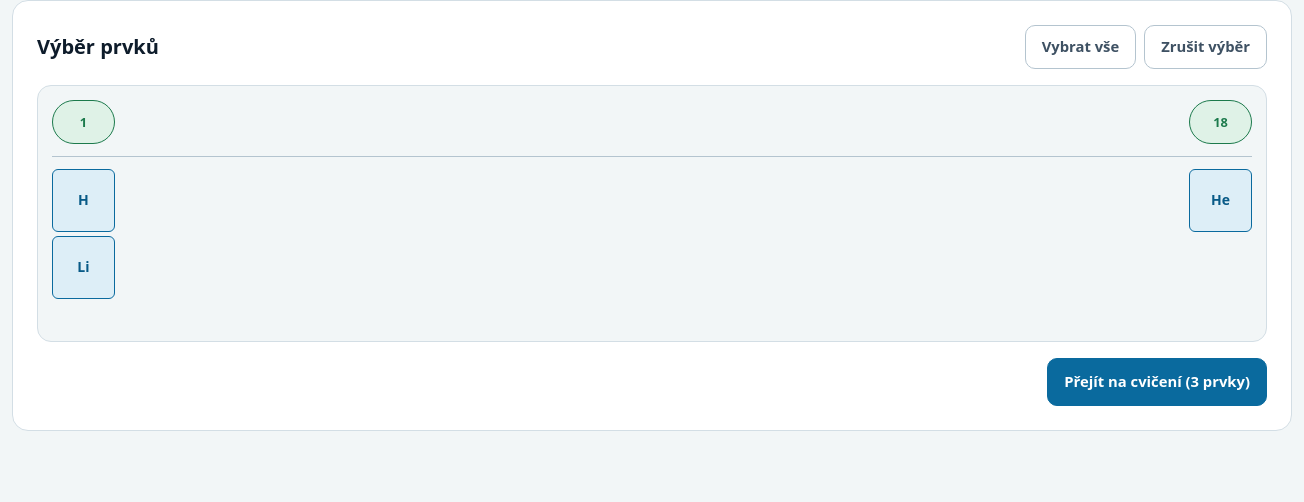
PeriodicTablePractice › marks a correct click green with the symbol and moves straight to the next element
Click the button "Přejít na cvičení (3 prvky)". click: x=1157, y=382
box: [1047,358,1267,406]
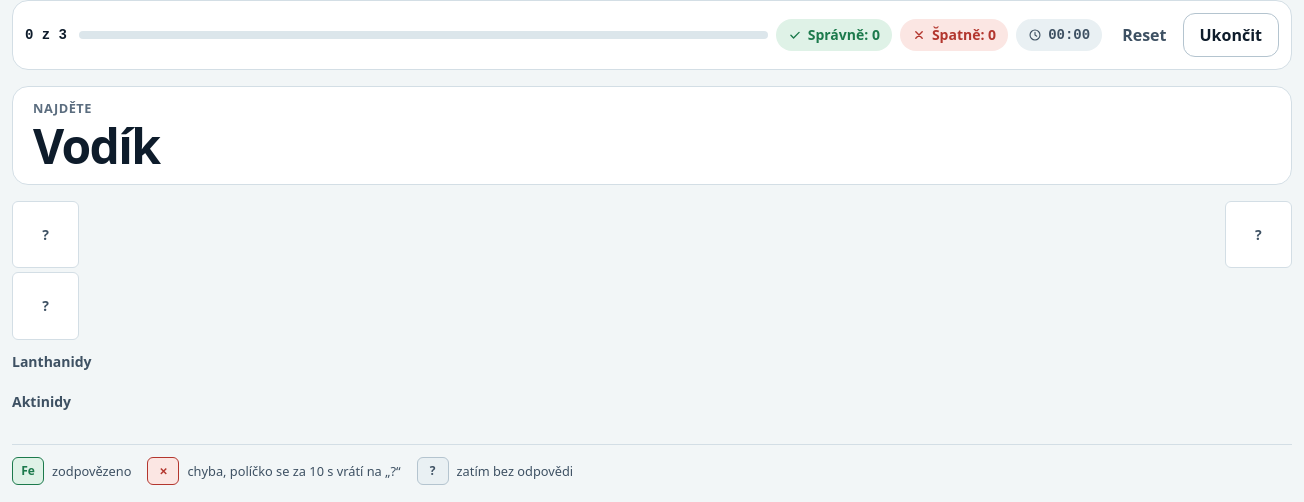
Click the button named "Perioda 1, skupina 1". click: x=46, y=235
box: [12,201,79,268]
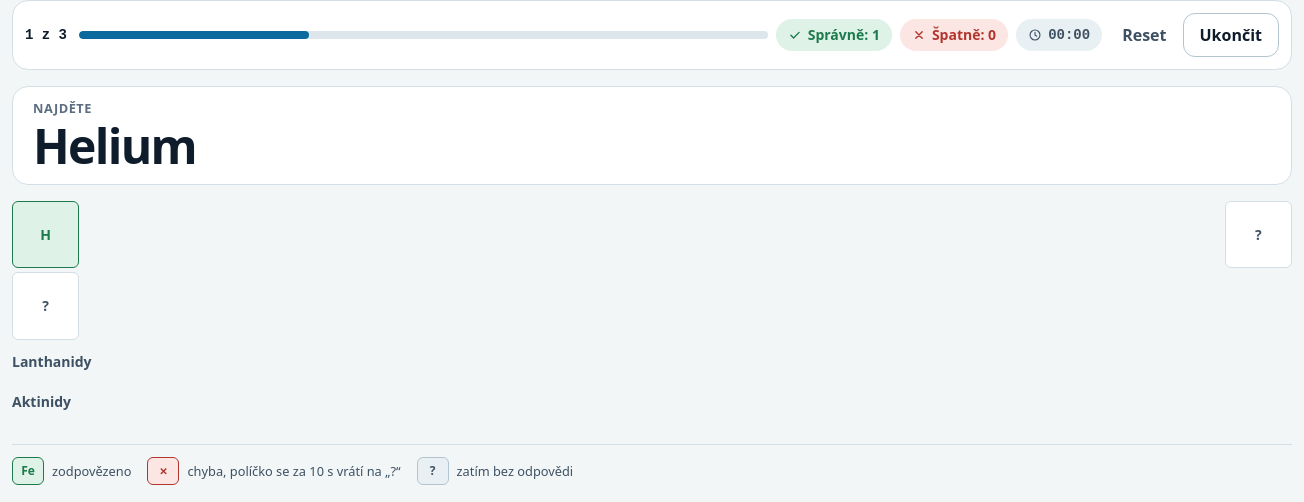
Expected: the button named "Perioda 1, skupina 1: H, vyřešeno" reads "H", [12,201,79,268]
Expected: the text "Správně: 1" is shown, [808,25,880,45]
